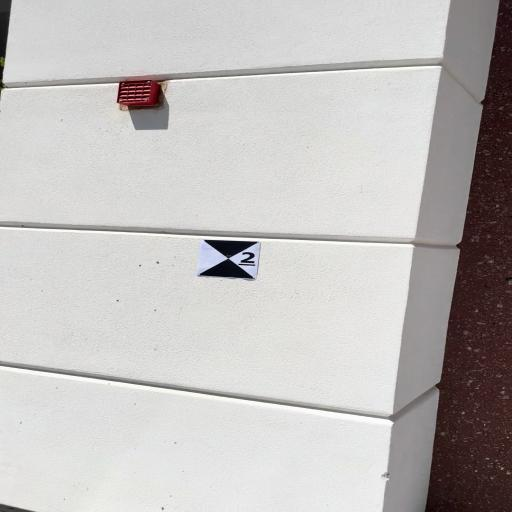target2: (195, 239, 261, 280)
